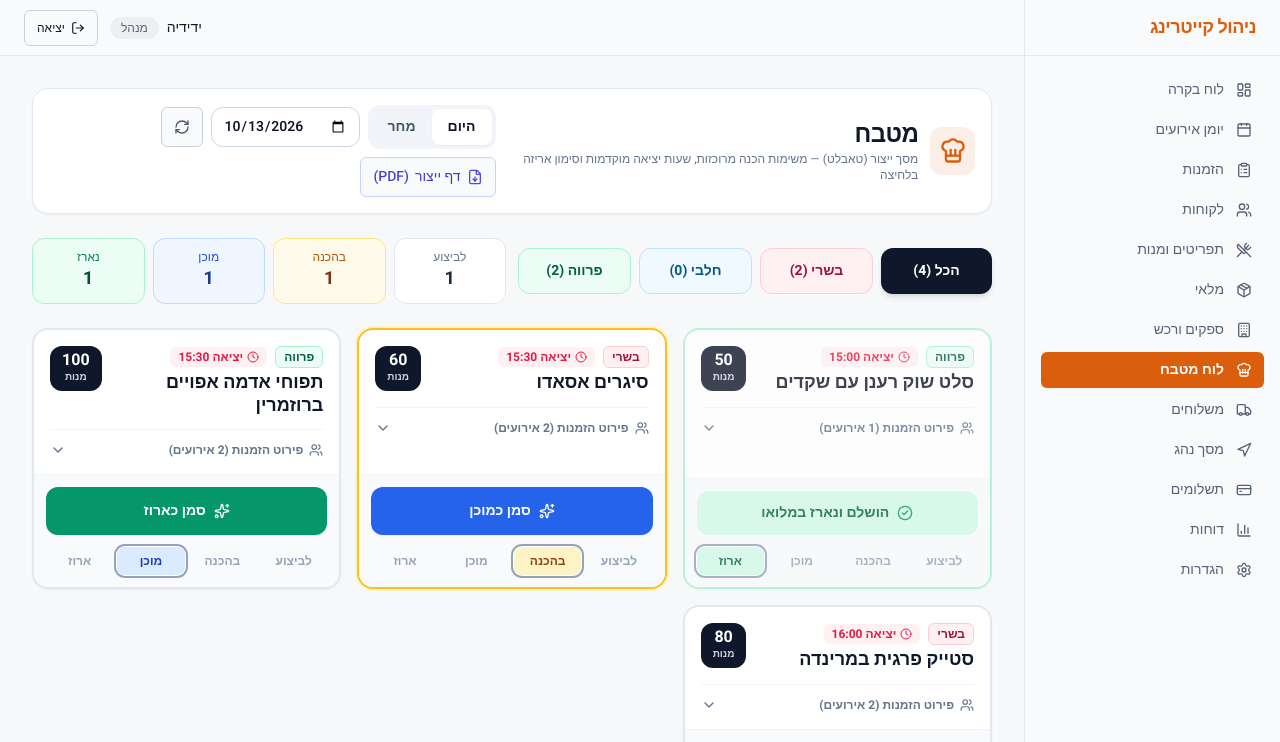
Test: S12 Kitchen Tablet Display › expands order breakdown for a task
Click the button "פירוט הזמנות (1 אירועים)".
click(837, 428)  # box 701,420 -> 974,436
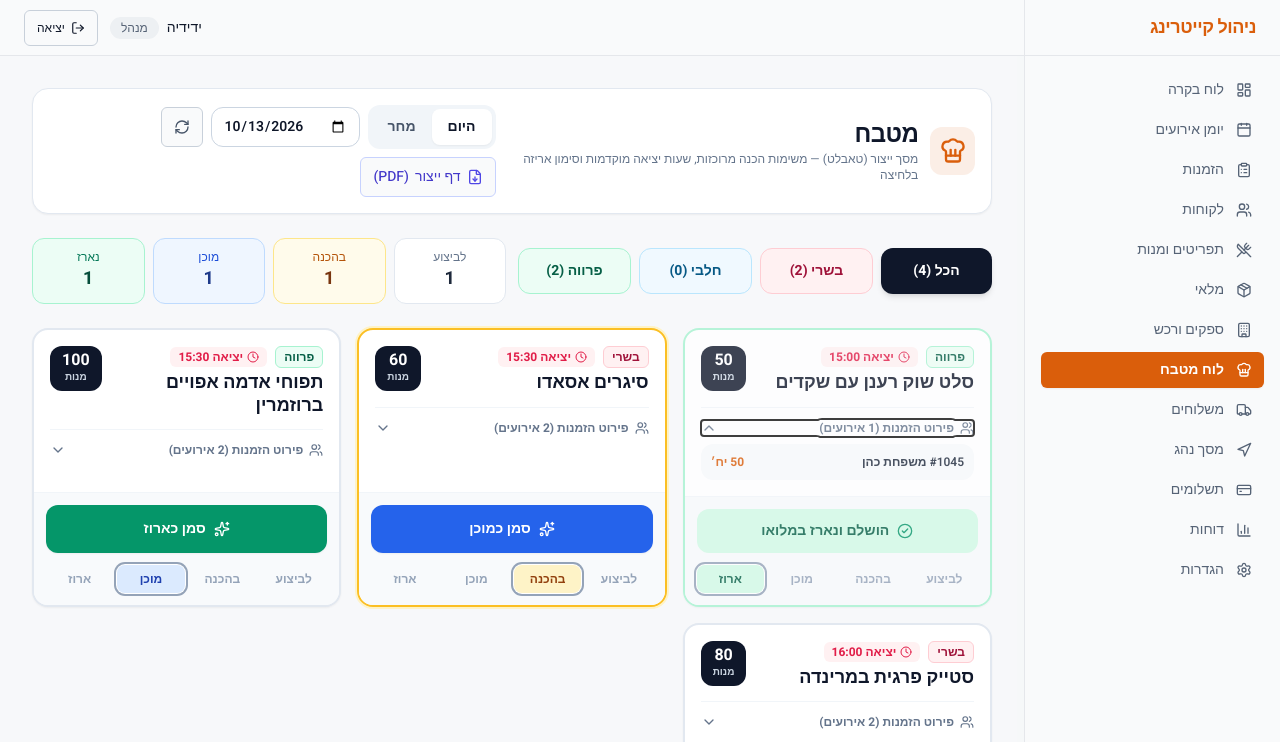
Result: the text "#1045 משפחת כהן" is shown at 862,454 -> 964,470
